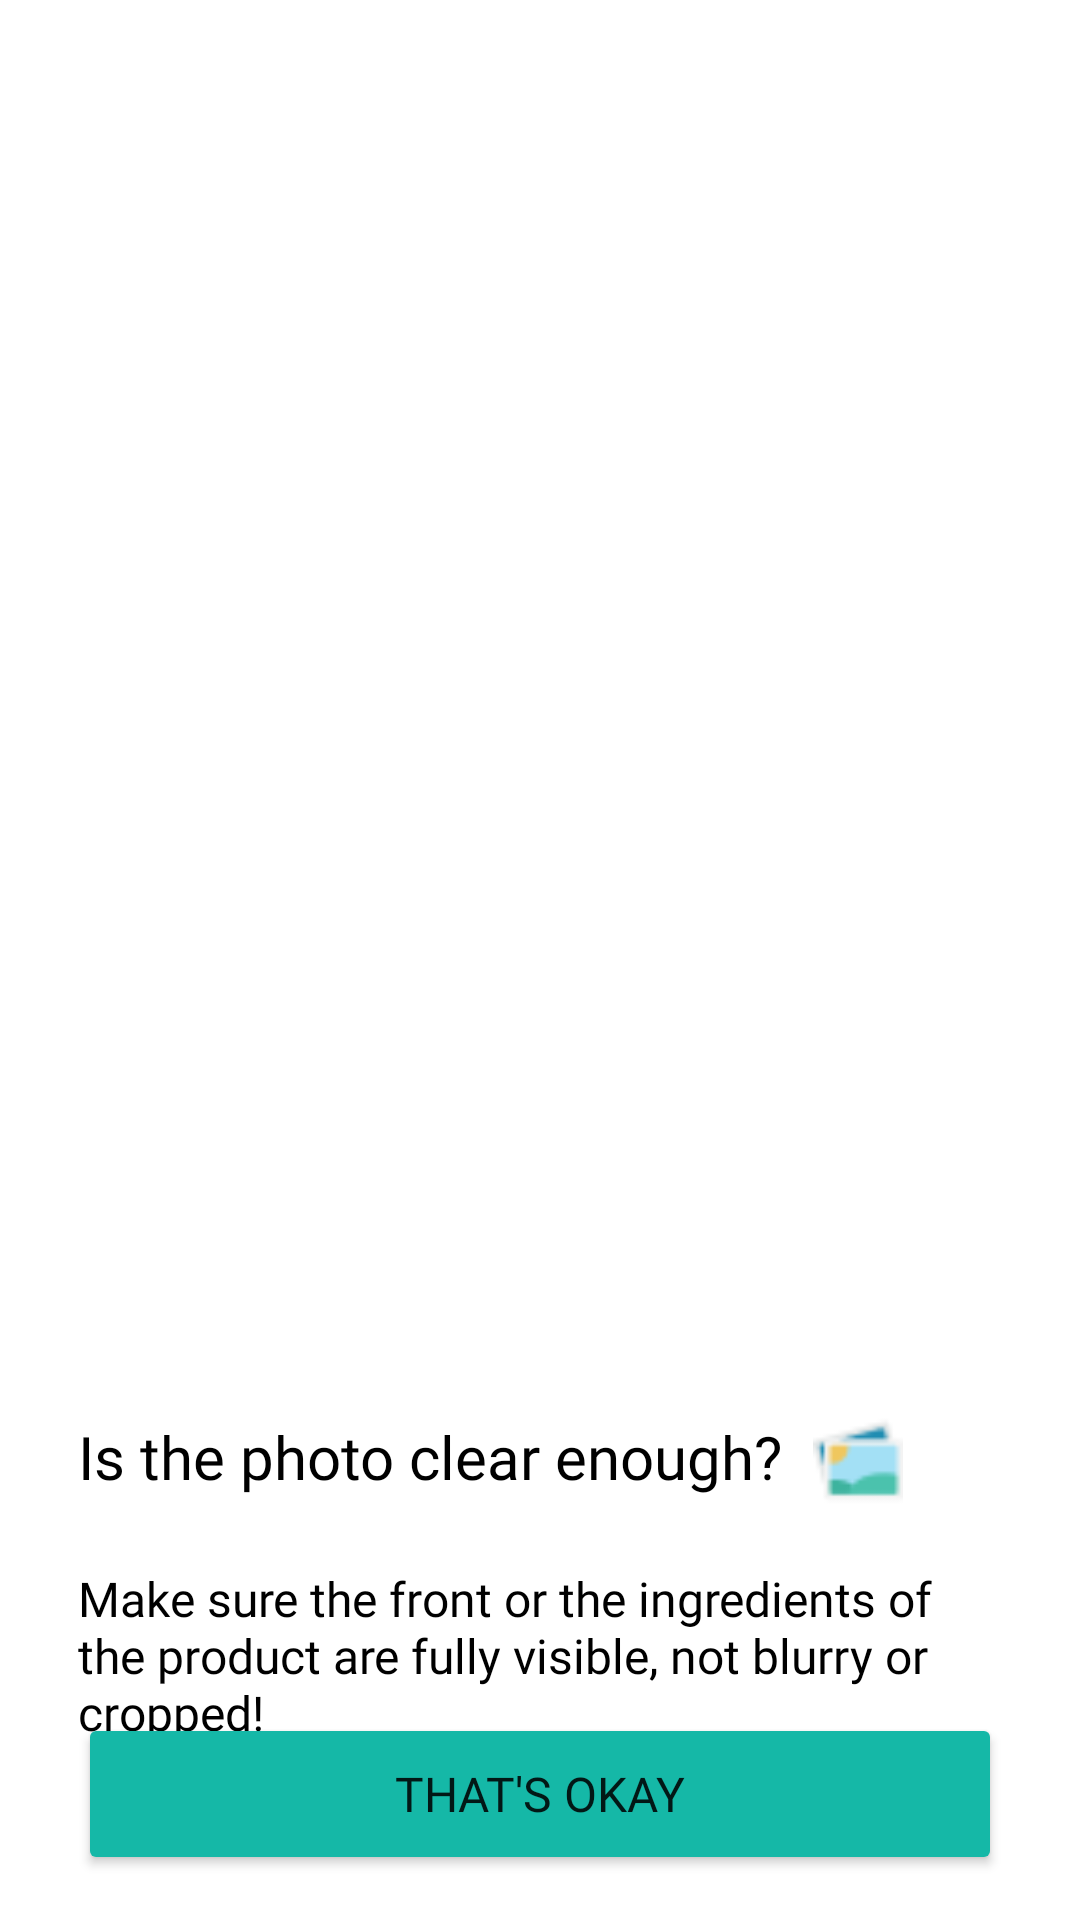

Point at icon controls on the screen. Image size 1080w x 1920h, points as point (x, y).
pictures: point (857, 1460)
